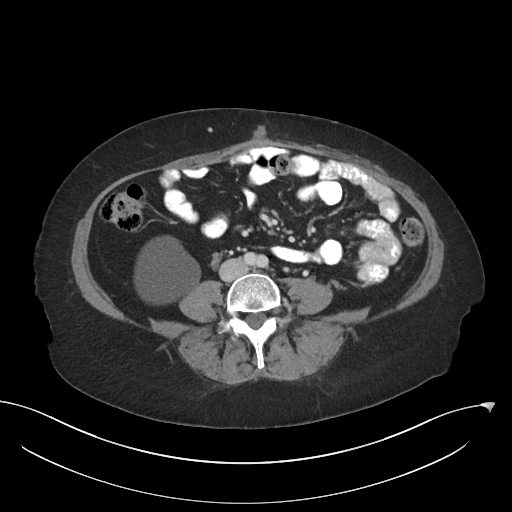Lesion: (132, 230, 205, 311)
